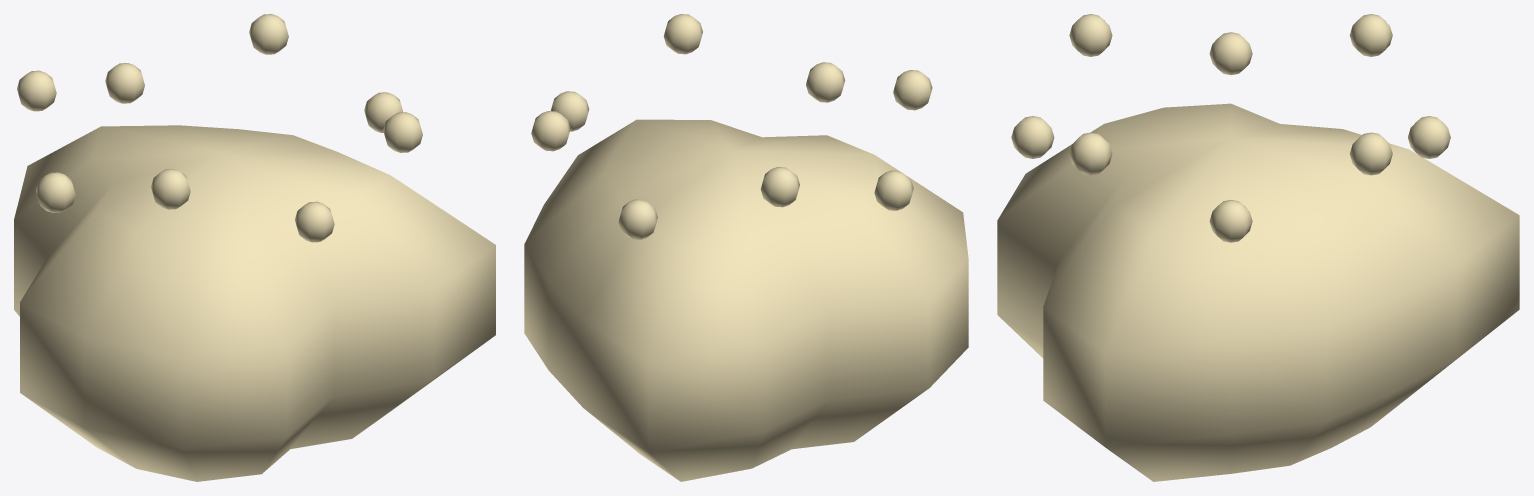
The model's file is shrub_11.glb.
3 views of the same model, side by side, from view 1: azimuth 30°, elevation 25°; view 2: azimuth 150°, elevation 25°; view 3: azimuth 270°, elevation 25° (orthographic). The views are drawn at different scales.
Visible parts, largest first — view 1: Tint; view 2: Tint; view 3: Tint.
Boxes of the visible parts, x1,y1,x2,y2 form: Tint: (14, 14, 495, 481); Tint: (524, 14, 968, 481); Tint: (997, 14, 1519, 481).
Bounding box in the file's own units: 0.7693 × 0.6218 × 0.8.
